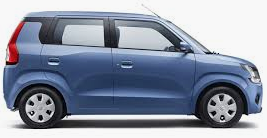car: (2, 10, 264, 133)
